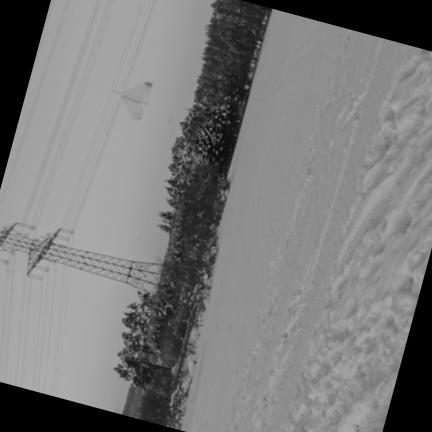Shahed: (111, 80, 152, 122)
